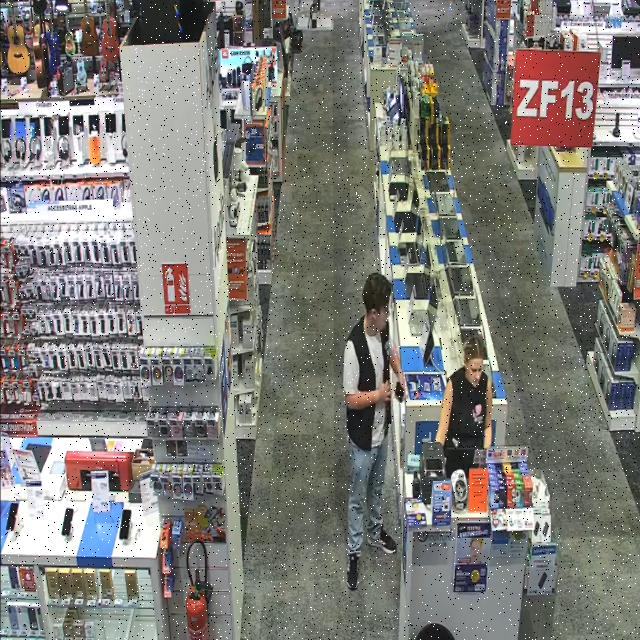hands: (378, 382, 390, 403), (399, 372, 406, 396)
person: (344, 273, 405, 590), (437, 337, 492, 454)
